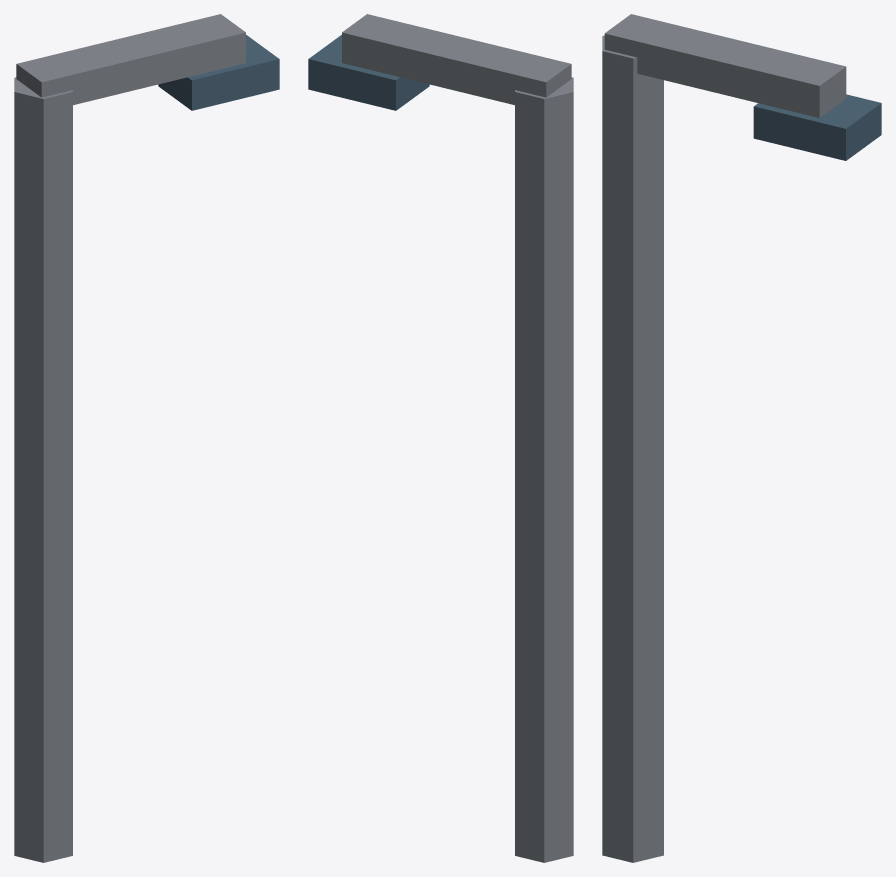
Rendered from streetlight.glb.
3 views of the same model, side by side, from view 1: azimuth 30°, elevation 25°; view 2: azimuth 150°, elevation 25°; view 3: azimuth 330°, elevation 25° (orthographic). The views are drawn at different scales.
Visible parts, largest first — view 1: streetlight_mesh; view 2: streetlight_mesh; view 3: streetlight_mesh.
Part boxes in pixels (left/top/right/bottom): streetlight_mesh: left=14, top=14, right=279, bottom=862; streetlight_mesh: left=308, top=14, right=573, bottom=862; streetlight_mesh: left=602, top=14, right=881, bottom=862.
Bounding box in the file's own units: 0.034 × 0.102 × 0.008.
